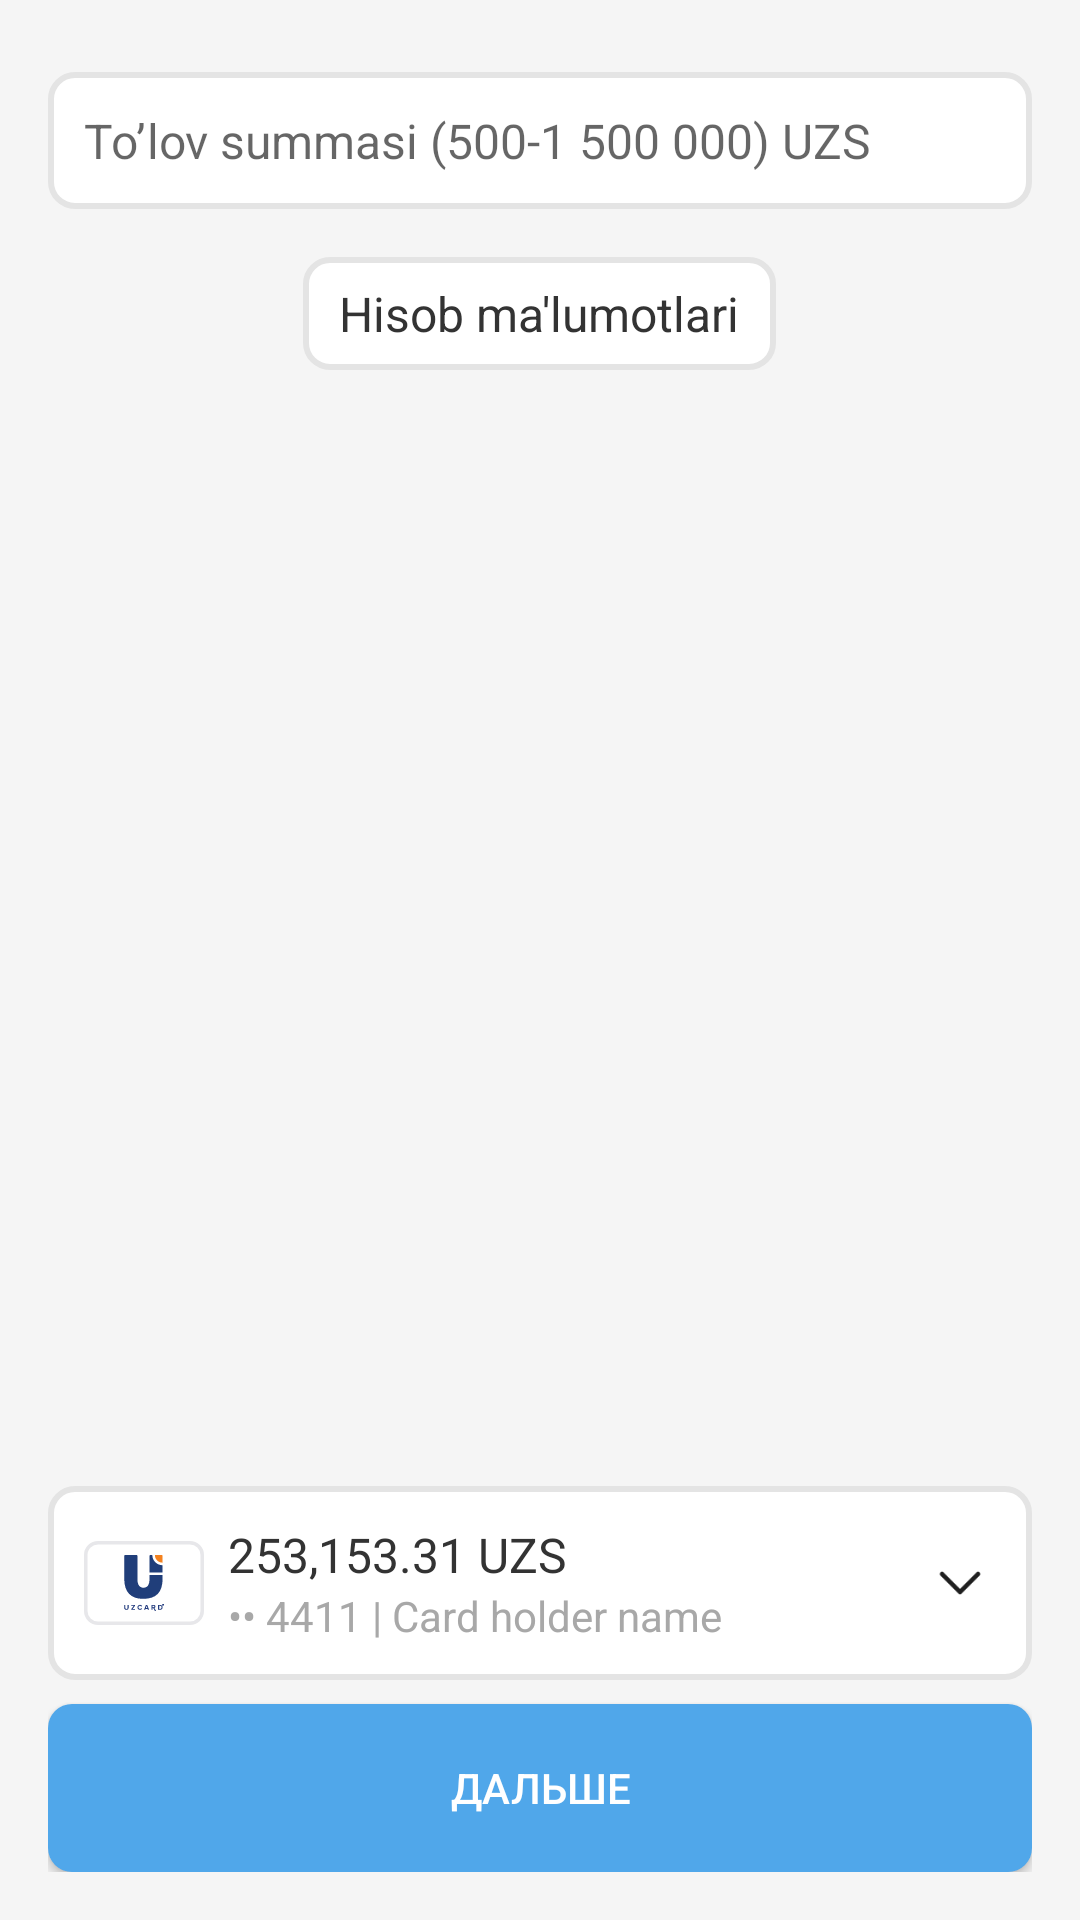

Named icons in this screenshot (1080 × 1920) and their centers, (x,y):
dropdown: (960,1583)
